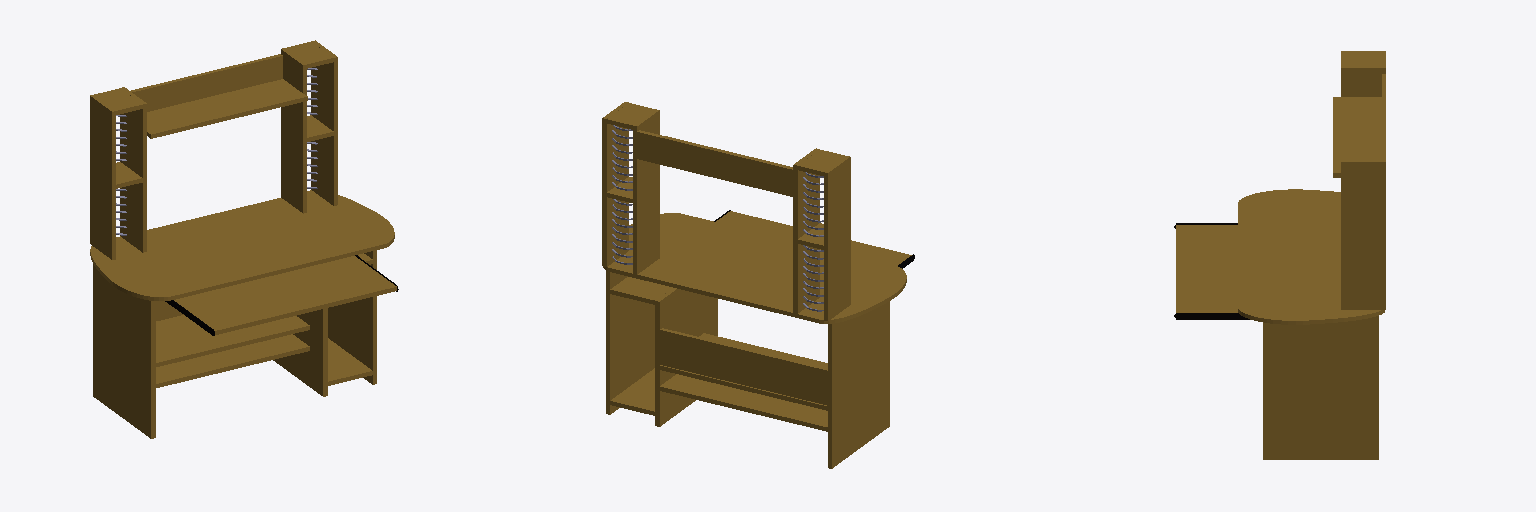
Rendered from pcstul.obj.
3 views of the same model, side by side, from view 1: azimuth 30°, elevation 25°; view 2: azimuth 150°, elevation 25°; view 3: azimuth 270°, elevation 25° (orthographic).
Visible parts, largest first — view 1: Circle_Wood_Wood_Wood, Cube.008_Cube.009_Woo, Cube_Cube.001_Wood_Wo, Cube.017_Cube.019_Woo, Cube.003_Cube.004_Woo, Cube.007_Cube.008_Woo, Cube.018_Cube.020_Woo, Cube.016_Cube.018_Woo, Cube.015_Cube.017_Woo, Cube.010_Cube.012_Woo, Cube.006_Cube.007_Woo, Cube.001_Cube.002_Woo (+4 smaller); view 2: Circle_Wood_Wood_Wood, Cube_Cube.001_Wood_Wo, Cube.009_Cube.011_Woo, Cube.001_Cube.002_Woo, Cube.003_Cube.004_Woo, Cube.018_Cube.020_Woo, Cube.002_Cube.003_Woo, Cube.016_Cube.018_Woo, Cube.006_Cube.007_Woo, Cube.015_Cube.017_Woo, Cube.010_Cube.012_Woo, Cube.008_Cube.009_Woo (+8 smaller); view 3: Cube.001_Cube.002_Woo, Circle_Wood_Wood_Wood, Cube.015_Cube.017_Woo, Cube.008_Cube.009_Woo, Cube.017_Cube.019_Woo, Cube.010_Cube.012_Woo, Cube.013_Cube.015_Woo, Cube.012_Cube.014_Woo.
Boxes of the visible parts, x1,y1,x2,y2 form: Circle_Wood_Wood_Wood: [90, 190, 394, 300]; Cube.008_Cube.009_Woo: [174, 256, 396, 334]; Cube_Cube.001_Wood_Wo: [93, 264, 155, 438]; Cube.017_Cube.019_Woo: [147, 79, 307, 138]; Cube.003_Cube.004_Woo: [90, 95, 115, 259]; Cube.007_Cube.008_Woo: [156, 315, 309, 366]; Cube.018_Cube.020_Woo: [131, 54, 282, 111]; Cube.016_Cube.018_Woo: [281, 48, 306, 213]; Cube.015_Cube.017_Woo: [311, 40, 337, 205]; Cube.010_Cube.012_Woo: [120, 87, 146, 252]; Cube.006_Cube.007_Woo: [156, 334, 309, 387]; Cube.001_Cube.002_Woo: [328, 250, 376, 384]; Circle_Wood_Wood_Wood: [603, 213, 906, 323]; Cube_Cube.001_Wood_Wo: [828, 301, 889, 468]; Cube.009_Cube.011_Woo: [660, 328, 827, 405]; Cube.001_Cube.002_Woo: [606, 271, 654, 414]; Cube.003_Cube.004_Woo: [824, 156, 850, 320]; Cube.018_Cube.020_Woo: [637, 130, 792, 192]; Cube.002_Cube.003_Woo: [655, 288, 717, 426]; Cube.016_Cube.018_Woo: [633, 109, 659, 274]; Cube.006_Cube.007_Woo: [660, 374, 827, 431]; Cube.015_Cube.017_Woo: [602, 102, 628, 266]; Cube.010_Cube.012_Woo: [793, 148, 819, 313]; Cube.008_Cube.009_Woo: [716, 211, 911, 265]; Cube.001_Cube.002_Woo: [1263, 316, 1378, 459]; Circle_Wood_Wood_Wood: [1238, 189, 1384, 324]; Cube.015_Cube.017_Woo: [1341, 160, 1385, 309]; Cube.008_Cube.009_Woo: [1176, 225, 1237, 312]; Cube.017_Cube.019_Woo: [1333, 97, 1381, 177]; Cube.010_Cube.012_Woo: [1341, 66, 1385, 96]; Cube.013_Cube.015_Woo: [1341, 147, 1385, 159]; Cube.012_Cube.014_Woo: [1341, 54, 1385, 65].
Bounding box in the file's own units: 5.37 × 5.68 × 3.67.